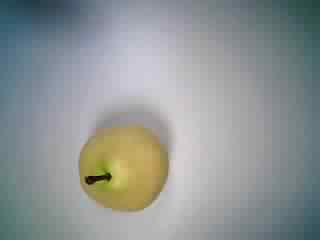pear: (67, 110, 172, 223)
